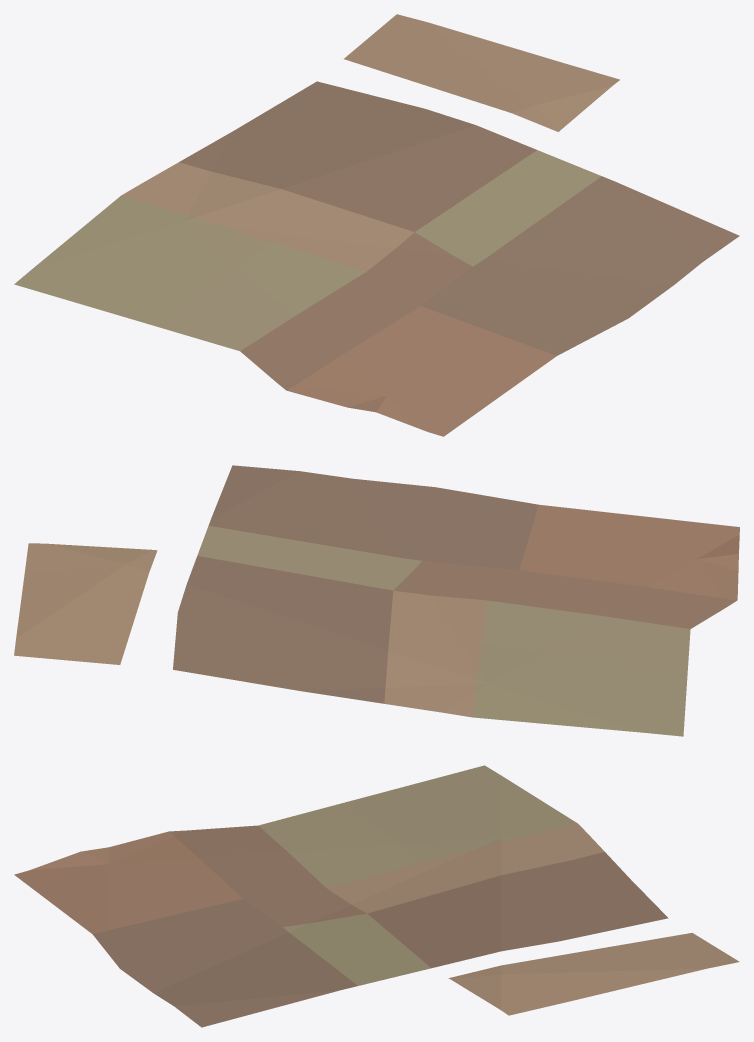
Rendered from farm_-33_-38_soil.glb.
3 views of the same model, one above another, from view 1: azimuth 30°, elevation 25°; view 2: azimuth 150°, elevation 25°; view 3: azimuth 270°, elevation 25° (orthographic). The views are drawn at different scales.
Parts seen in each view (by area): view 1: geometry_0; view 2: geometry_0; view 3: geometry_0.
Boxes of the visible parts, x1,y1,x2,y2 form: geometry_0: (14, 14, 739, 436); geometry_0: (14, 465, 739, 736); geometry_0: (14, 765, 739, 1027).
Size of the model in its own units: 142 by 15.32 by 148.
